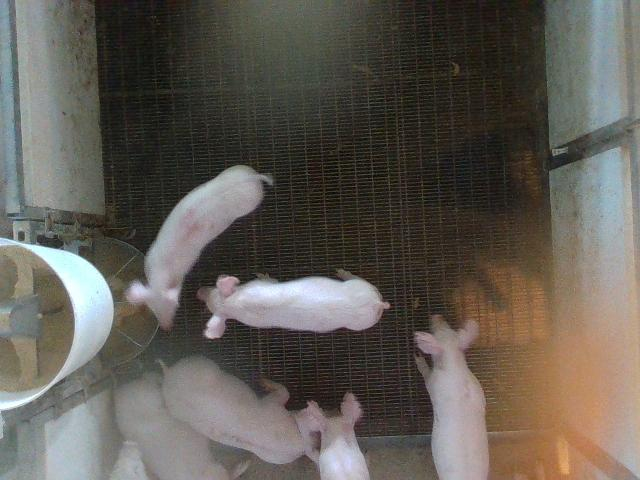pig-4: (125, 165, 272, 329)
